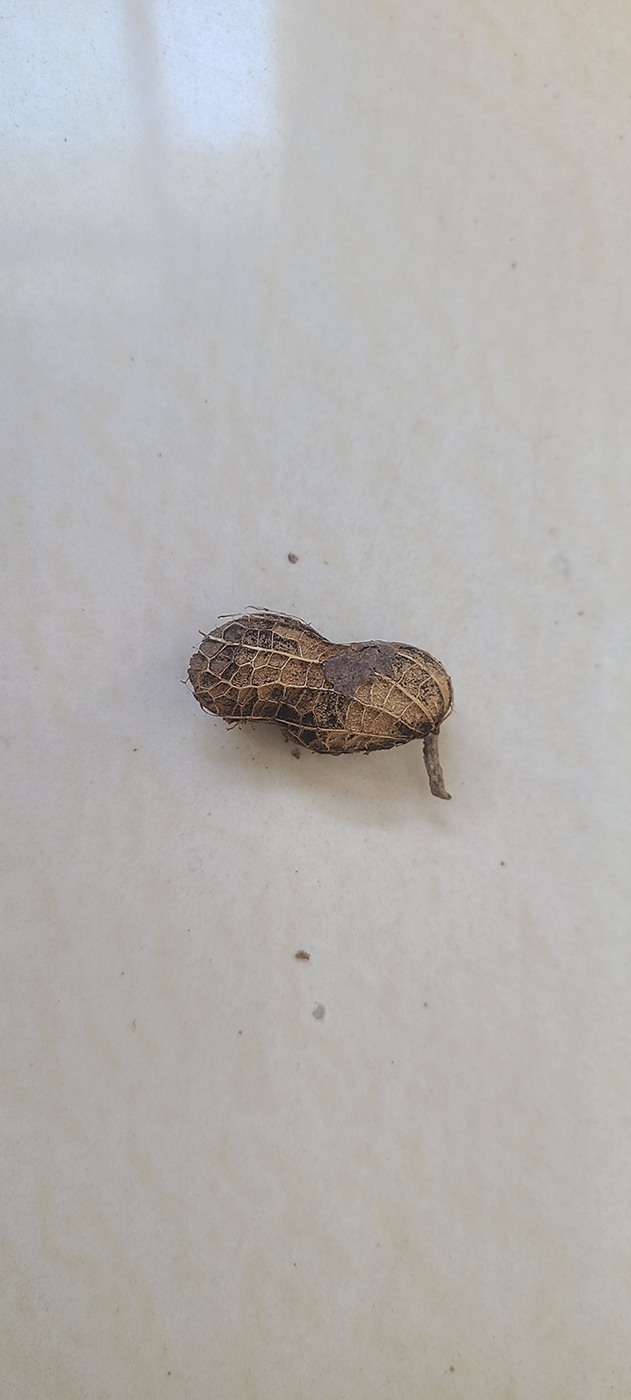l: (184, 611, 459, 764)
